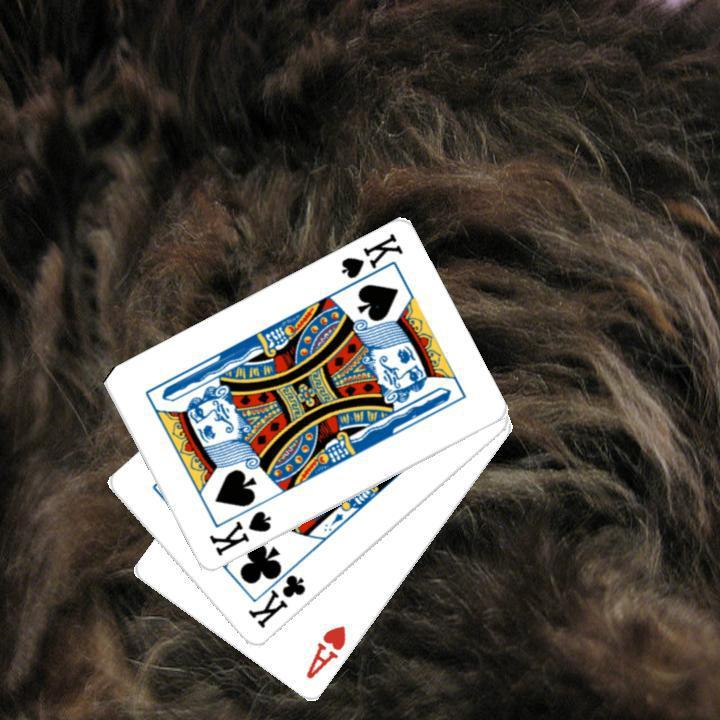A: (301, 621, 349, 682)
K: (243, 558, 308, 631), (336, 229, 405, 293), (204, 506, 274, 559)
